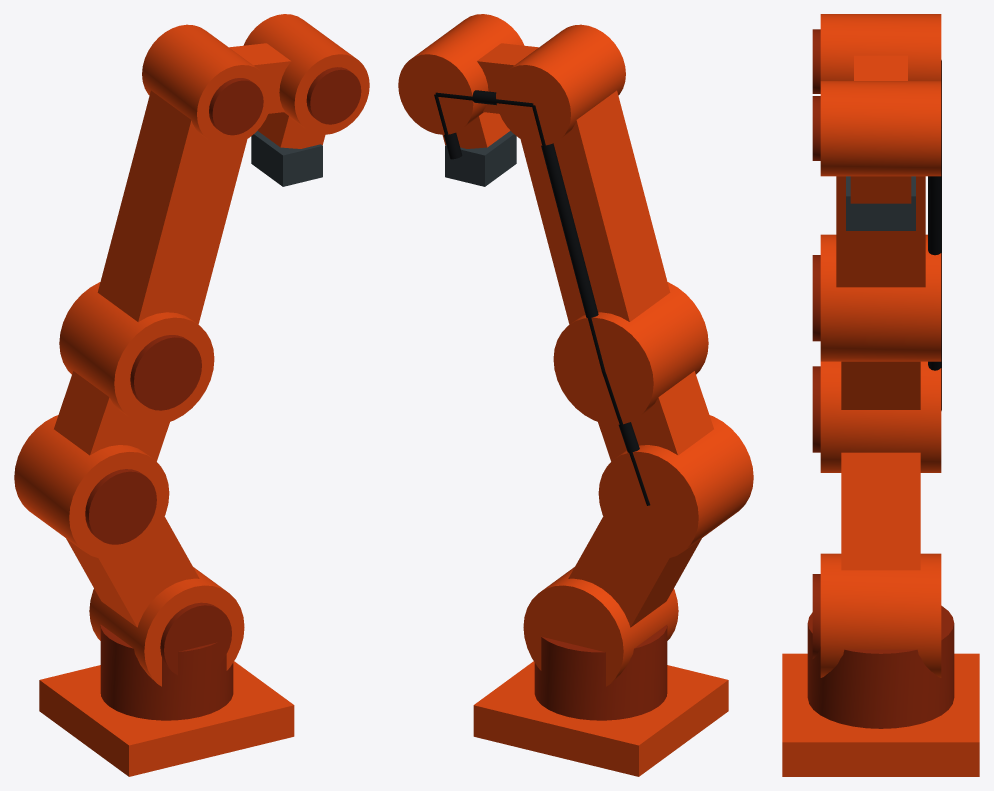
The model's file is bearing_loading_robot.dae.
3 renders of one model, left to right at view 1: azimuth 30°, elevation 25°; view 2: azimuth 150°, elevation 25°; view 3: azimuth 270°, elevation 25°, orthographic. The views are drawn at different scales.
Parts seen in each view (by area): view 1: bearing_loading_robot; view 2: bearing_loading_robot; view 3: bearing_loading_robot.
Boxes of the visible parts, box(x1,y1,x2,y2) form: bearing_loading_robot: box(14, 14, 369, 776); bearing_loading_robot: box(398, 14, 753, 776); bearing_loading_robot: box(782, 14, 979, 776).
Size of the model in its own units: 1.2 by 0.62 by 2.55.
